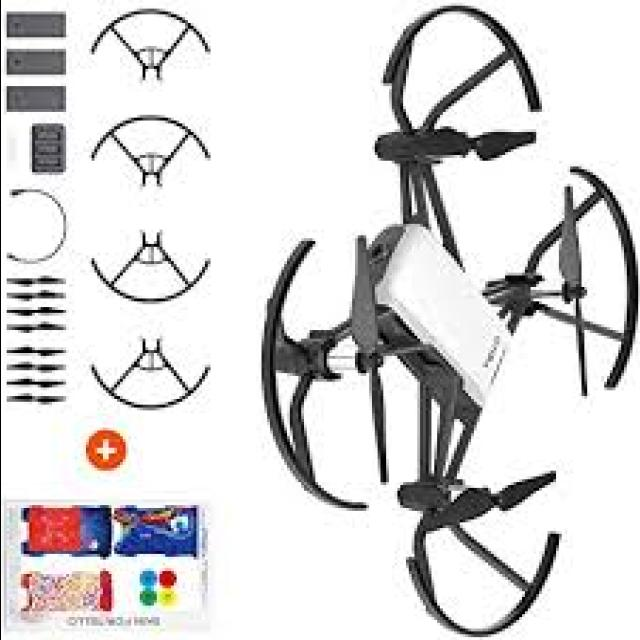drone: (234, 0, 628, 640)
